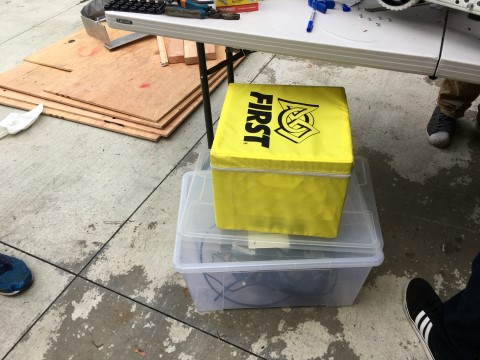cube: (210, 83, 352, 238)
